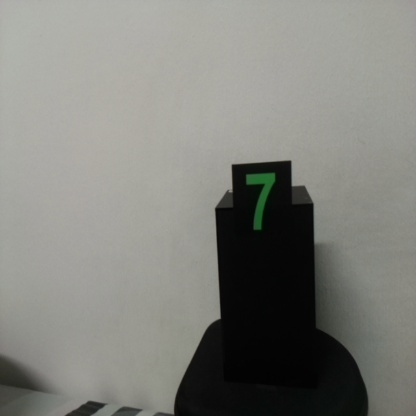id_7: (233, 163, 293, 250)
